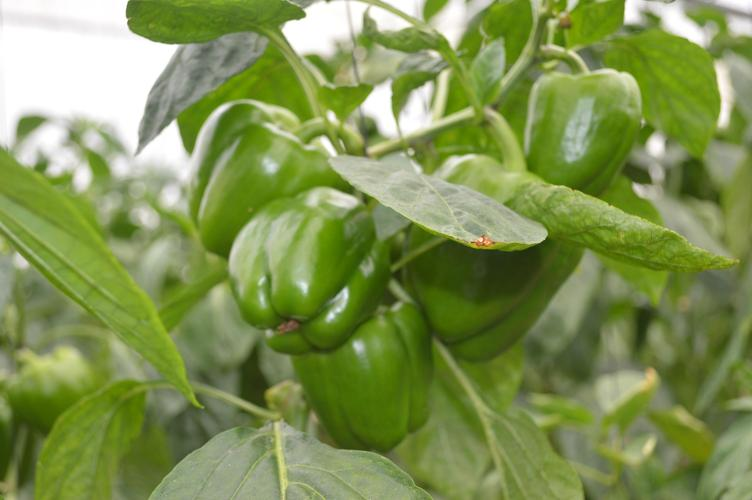BellPepper: (166, 87, 363, 258), (396, 144, 545, 355), (209, 198, 392, 367), (284, 308, 450, 465), (507, 48, 655, 219)
